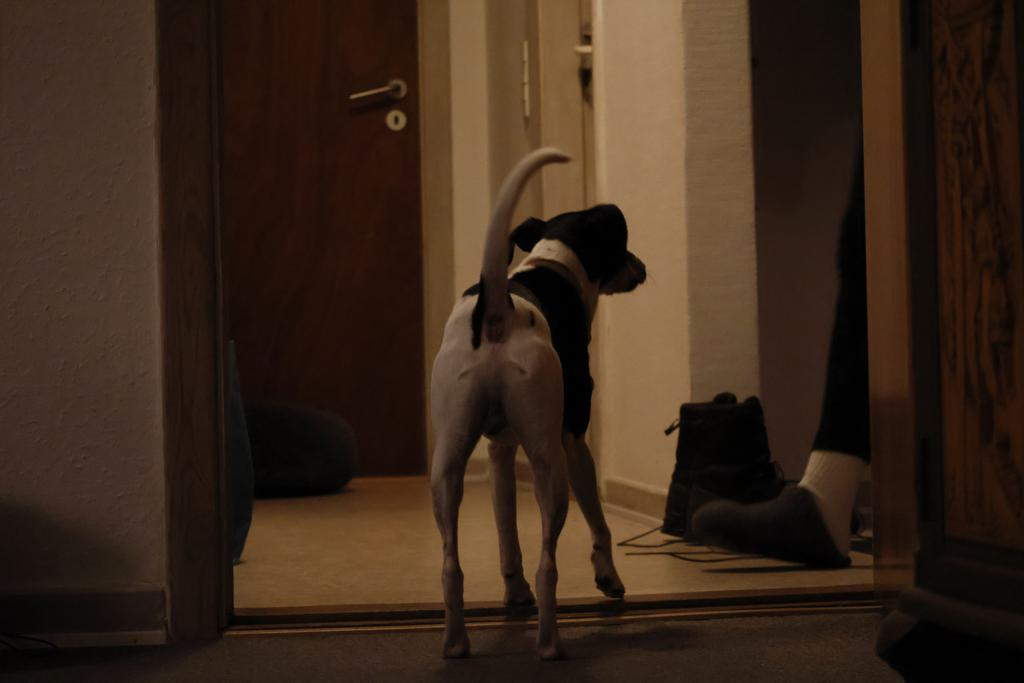Dog: (411, 141, 664, 670)
Humanoid: (675, 91, 917, 577)
